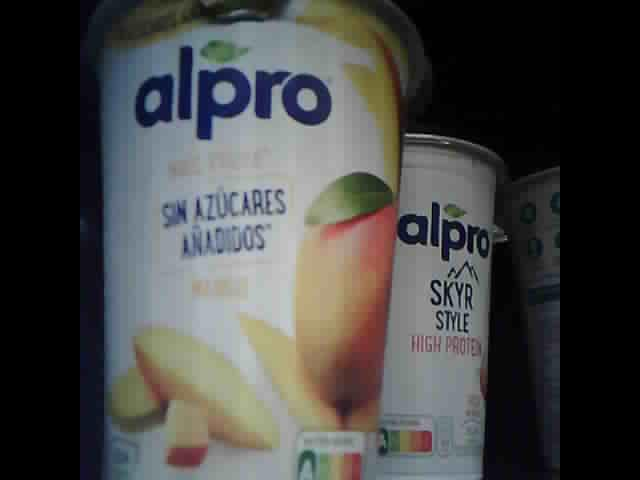alpro: (81, 1, 426, 480), (371, 133, 504, 480), (498, 164, 560, 480)
